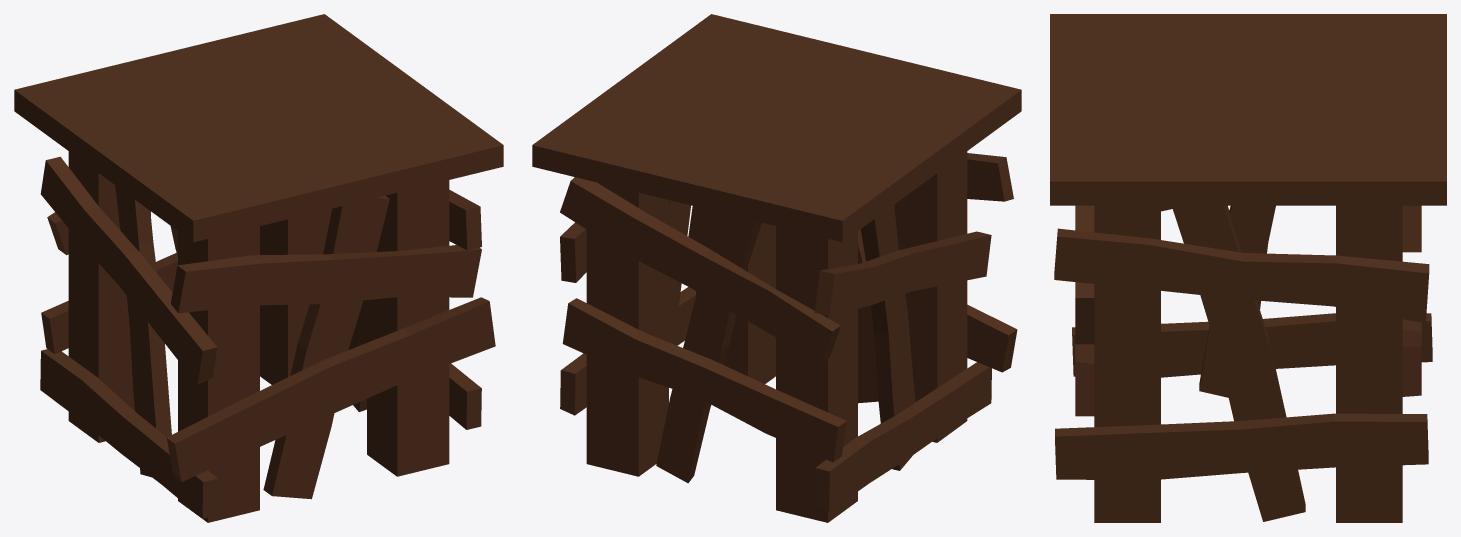
The model's file is scafolding.fbx.
The picture shows the model from 3 angles, left to right: view 1: azimuth 30°, elevation 25°; view 2: azimuth 150°, elevation 25°; view 3: azimuth 270°, elevation 25°; orthographic projection. The views are drawn at different scales.
Parts seen in each view (by area): view 1: cave_floor.002; view 2: cave_floor.002; view 3: cave_floor.002.
Boxes of the visible parts, left/top/right/bottom form: cave_floor.002: left=14, top=14, right=503, bottom=522; cave_floor.002: left=532, top=14, right=1021, bottom=522; cave_floor.002: left=1050, top=14, right=1446, bottom=522.
Bounding box in the file's own units: 233 × 227 × 225.
